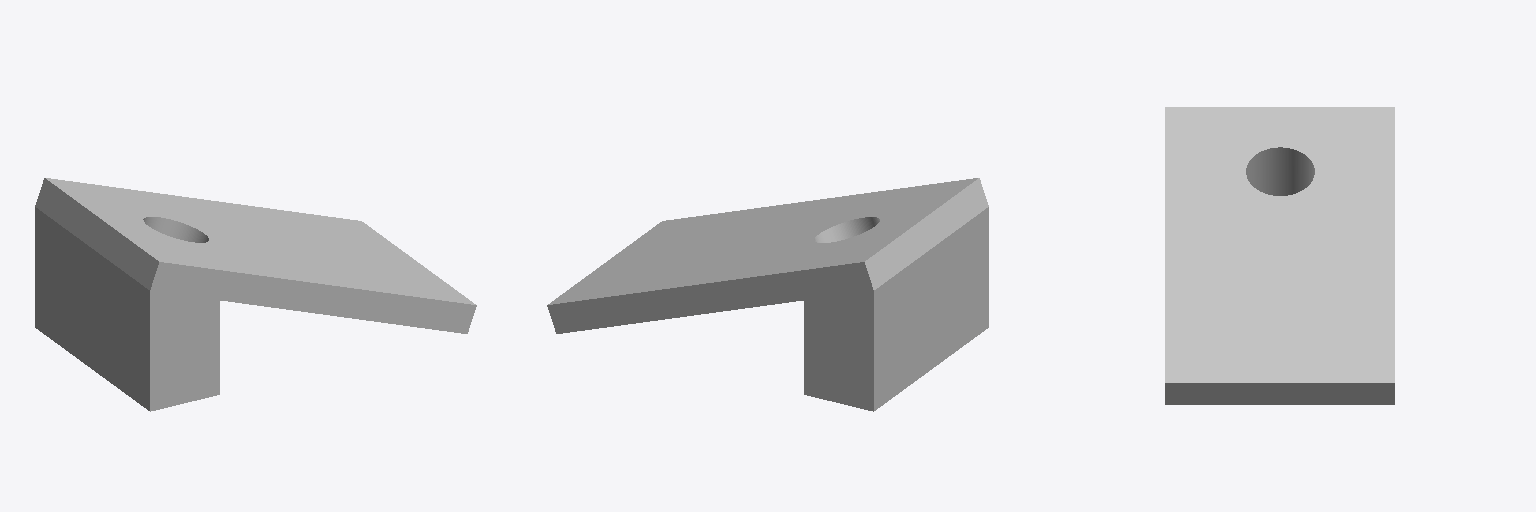
File: cornhole.obj
The picture shows the model from 3 angles: view 1: azimuth 30°, elevation 25°; view 2: azimuth 150°, elevation 25°; view 3: azimuth 270°, elevation 25°; orthographic projection.
Parts seen in each view (by area): view 1: cornhole; view 2: cornhole; view 3: cornhole.
Boxes of the visible parts, x1,y1,x2,y2 form: cornhole: [35, 178, 476, 411]; cornhole: [547, 178, 988, 411]; cornhole: [1165, 107, 1394, 404].
Size of the model in its own units: 0.8235 by 0.3557 by 0.502.